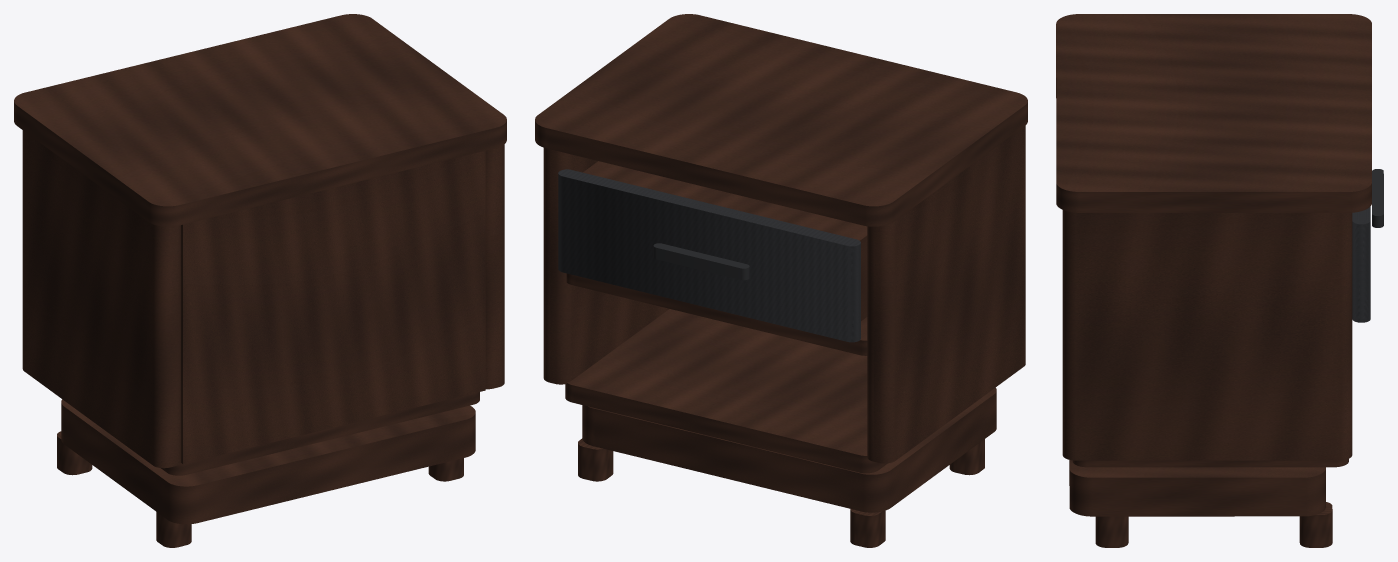
The model's file is Apartment_Bedside_Table.glb.
3 views of the same model, side by side, from view 1: azimuth 30°, elevation 25°; view 2: azimuth 150°, elevation 25°; view 3: azimuth 270°, elevation 25° (orthographic). The views are drawn at different scales.
Parts seen in each view (by area): view 1: CabinetBody, Base_Wood, OpenShelf; view 2: CabinetBody, OpenShelf, DrawerFront, Base_Wood, Drawer, DrawerPull; view 3: CabinetBody, Base_Wood, OpenShelf, DrawerFront, DrawerPull.
Part boxes in pixels (box(x1,y1,x2,y2)): CabinetBody: box(14, 14, 506, 468); Base_Wood: box(57, 399, 475, 547); OpenShelf: box(161, 392, 479, 475); CabinetBody: box(535, 14, 1027, 463); OpenShelf: box(565, 273, 887, 473); DrawerFront: box(558, 169, 860, 342); Base_Wood: box(578, 387, 996, 547); Drawer: box(583, 161, 867, 320); DrawerPull: box(653, 243, 749, 280); CabinetBody: box(1056, 14, 1371, 460); Base_Wood: box(1069, 460, 1332, 547); OpenShelf: box(1072, 459, 1348, 467); DrawerFront: box(1352, 206, 1370, 322); DrawerPull: box(1372, 169, 1383, 227).
Size of the model in its own units: 0.64 by 0.62 by 0.498.
Materials: 3 (3 with a texture image).
